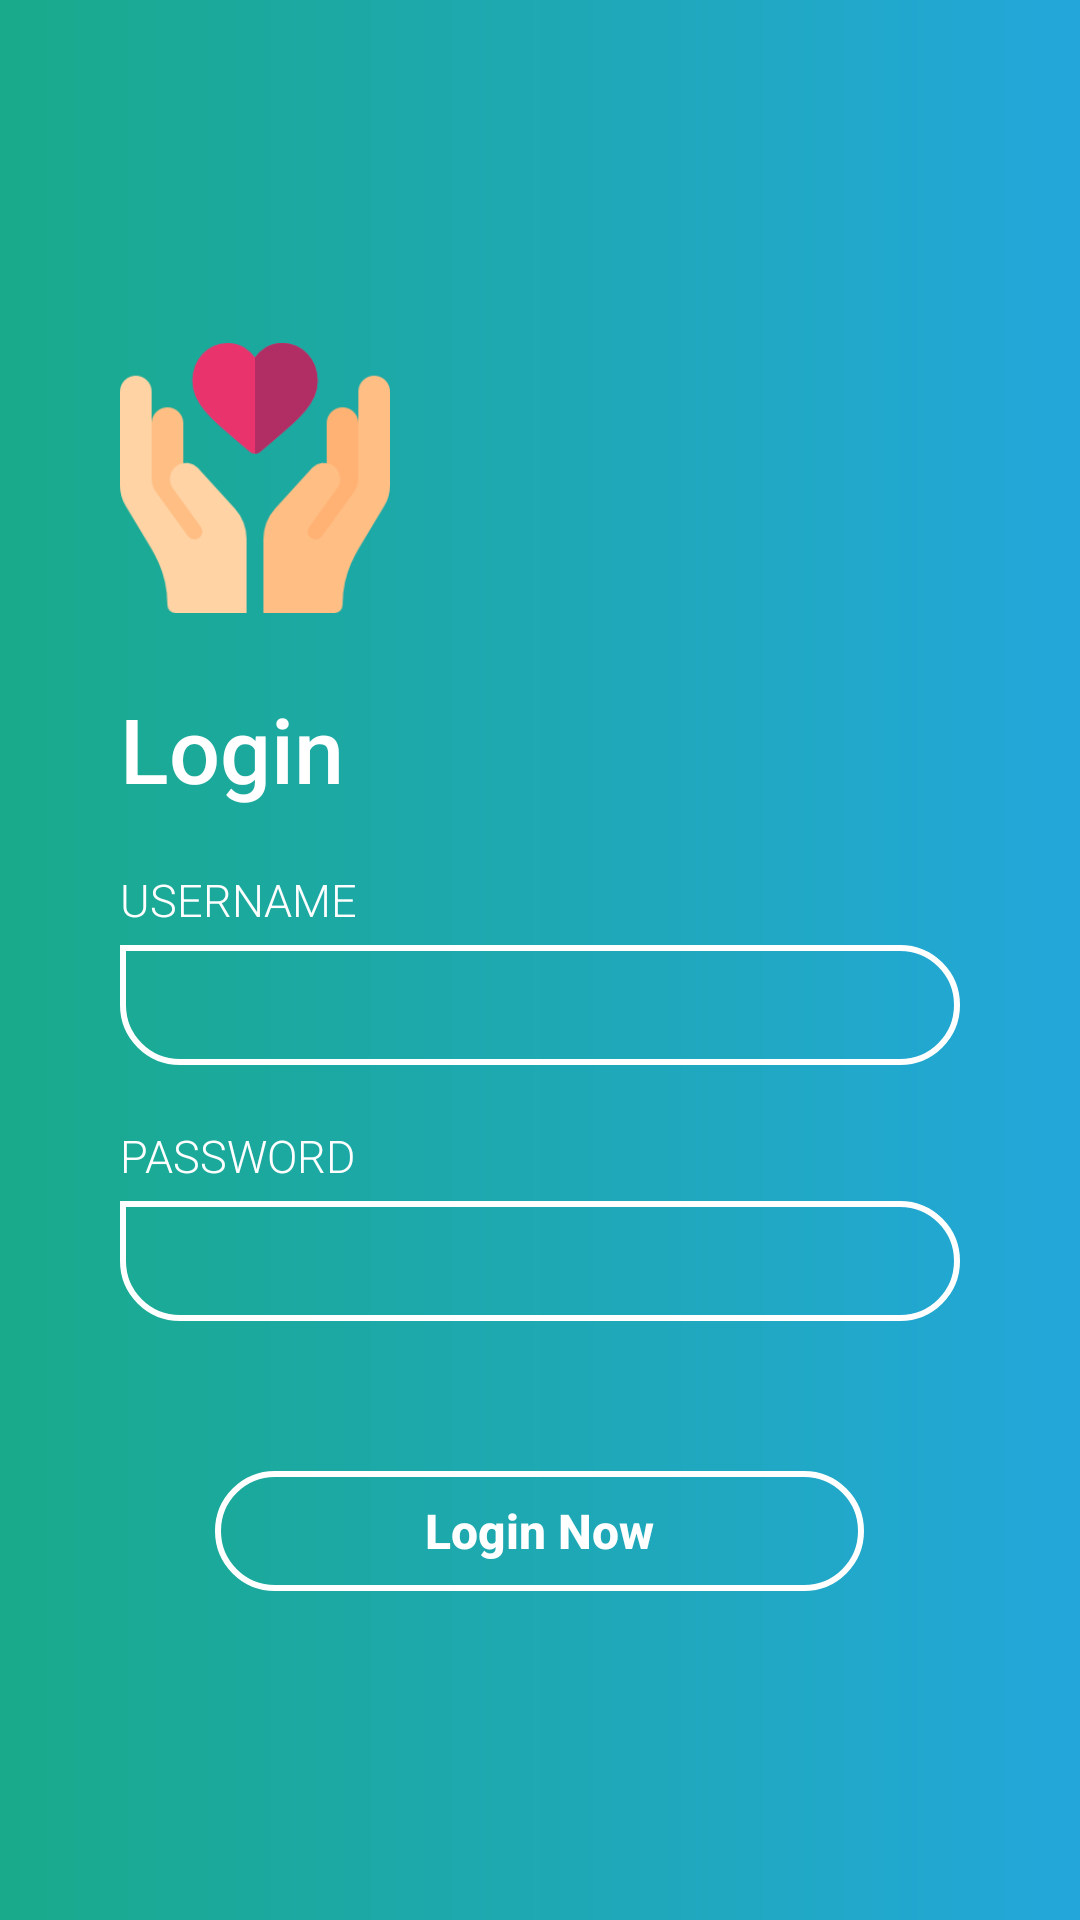

Screen size 1080*1920. Icon name, then its box in pixels as bbox=[x1, y1, x2, y2]:
heart: bbox=[120, 343, 390, 613]
